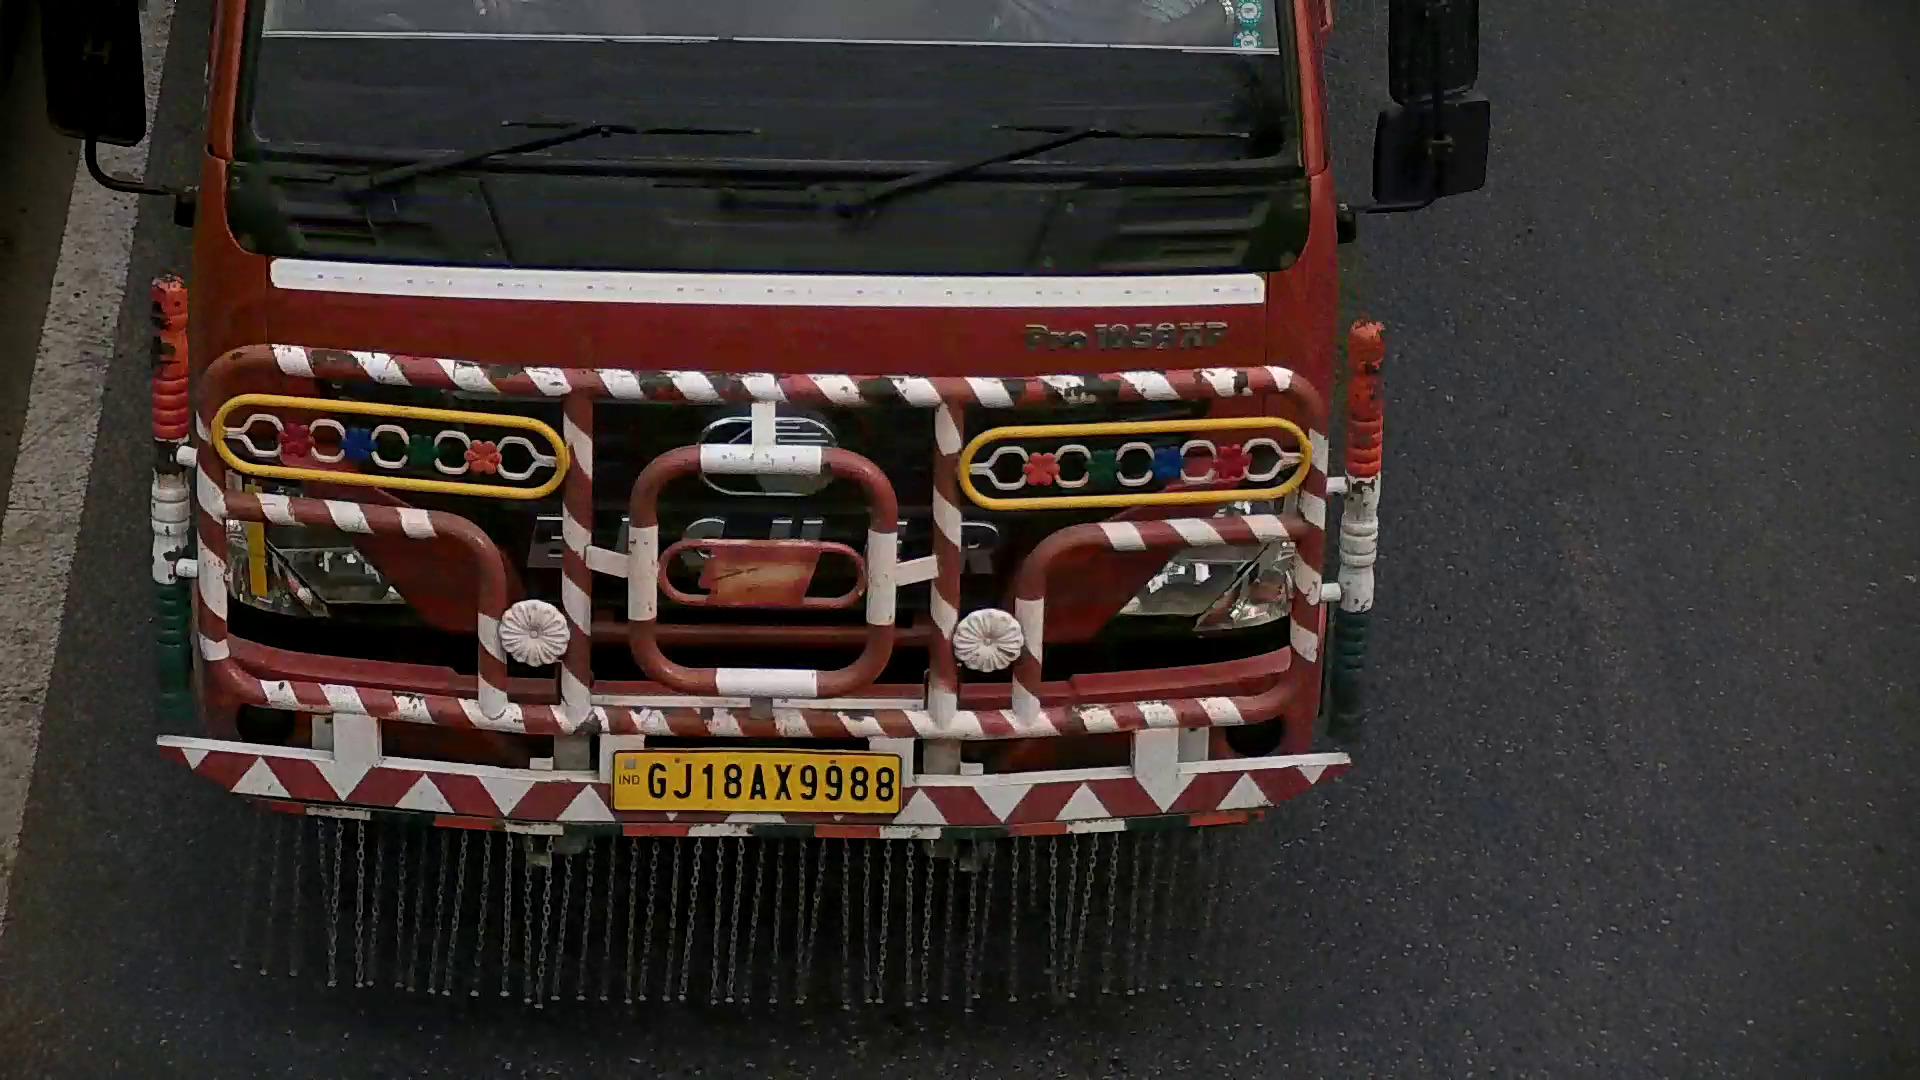numberplate: (606, 748, 903, 815)
